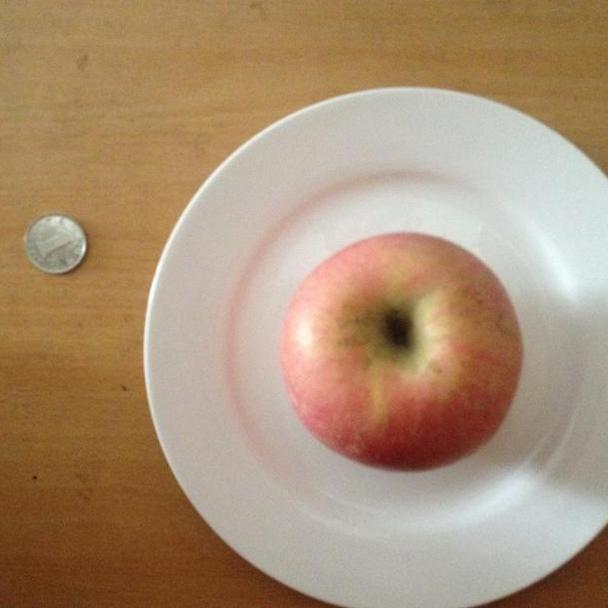apple: (278, 235, 527, 472)
